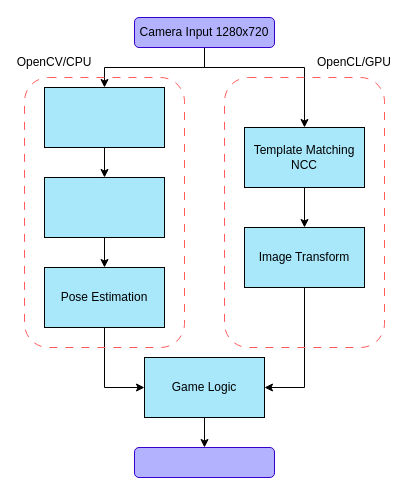
This 409x495 diagram has some shape labels left out. The shapes that lost their labels are listed below. From the top down, each one's centre as x and y in pixels, then its label:
At point 104,117: "Face Detection DNN-based".
At point 104,207: "Body ROI Extraction".
At point 204,462: "Display Output".
